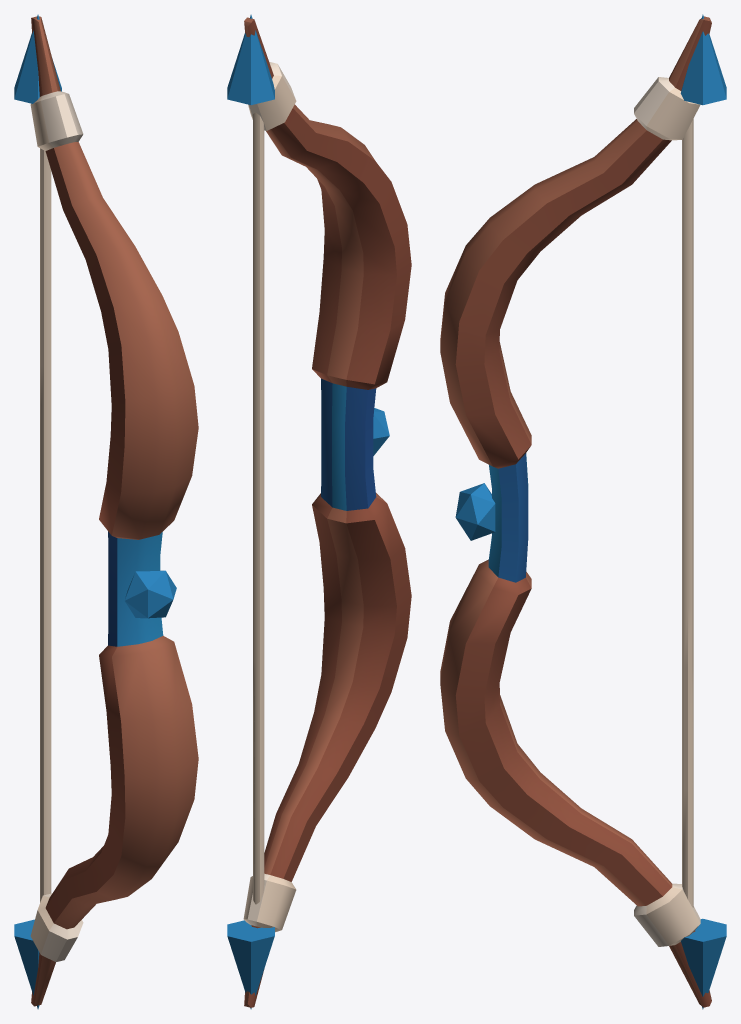
The model's file is ranger_sword_t2.glb.
3 renders of one model, left to right at view 1: azimuth 30°, elevation 25°; view 2: azimuth 150°, elevation 25°; view 3: azimuth 270°, elevation 25°, orthographic.
Visible parts, largest first — view 1: ranger_sword_t2__handslot_l; view 2: ranger_sword_t2__handslot_l; view 3: ranger_sword_t2__handslot_l.
Boxes of the visible parts, <box> form: ranger_sword_t2__handslot_l: <box>14,14,198,1009</box>; ranger_sword_t2__handslot_l: <box>227,14,411,1009</box>; ranger_sword_t2__handslot_l: <box>440,14,726,1009</box>.
Size of the model in its own units: 0.0856 by 1.1 by 0.2868.
Materials: 2 (2 with a texture image).
